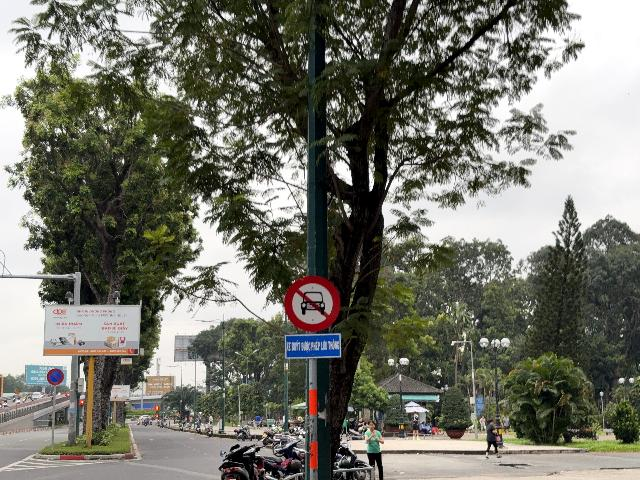cam-o-to: (284, 275, 341, 331)
